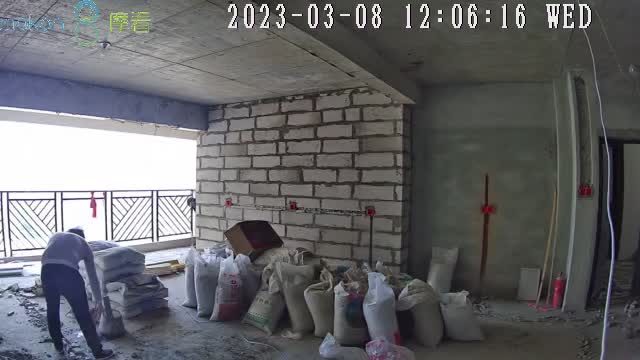people: (41, 227, 112, 360)
window: (1, 187, 198, 255)
